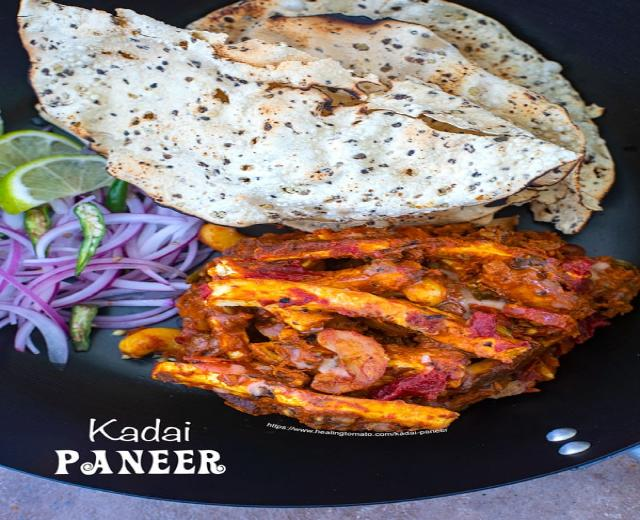kadai paneer: (202, 222, 629, 498), (186, 0, 607, 224), (4, 345, 217, 430), (0, 154, 111, 213)
